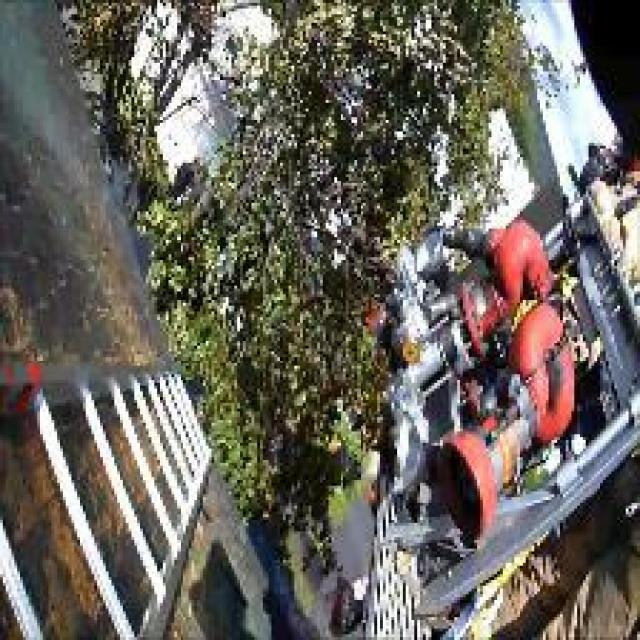other: (450, 208, 574, 539)
